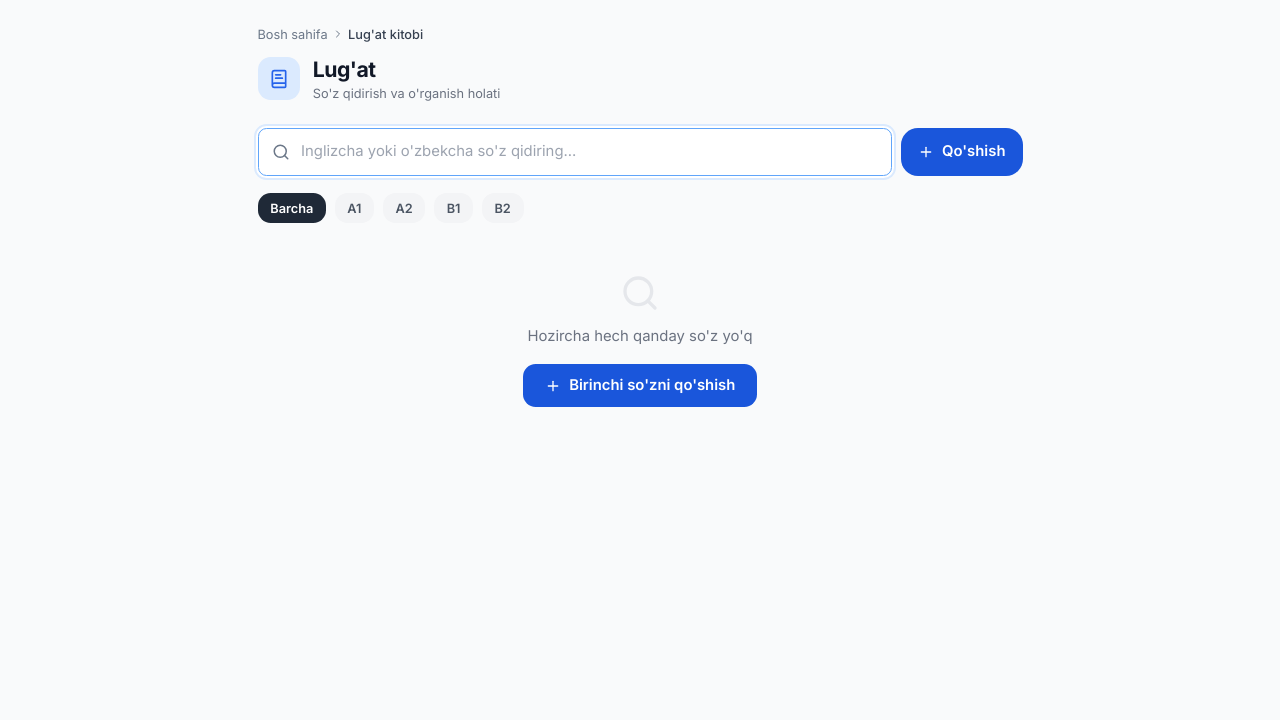
Scenario: Dictionary — page integration tests › shows validation error when submitting empty form
Note: Open modal
What coordinates should you click on to do the following:
click the button "Qo'shish"
I would click on:
 (962, 152)
Its box is 901,128 -> 1022,176.
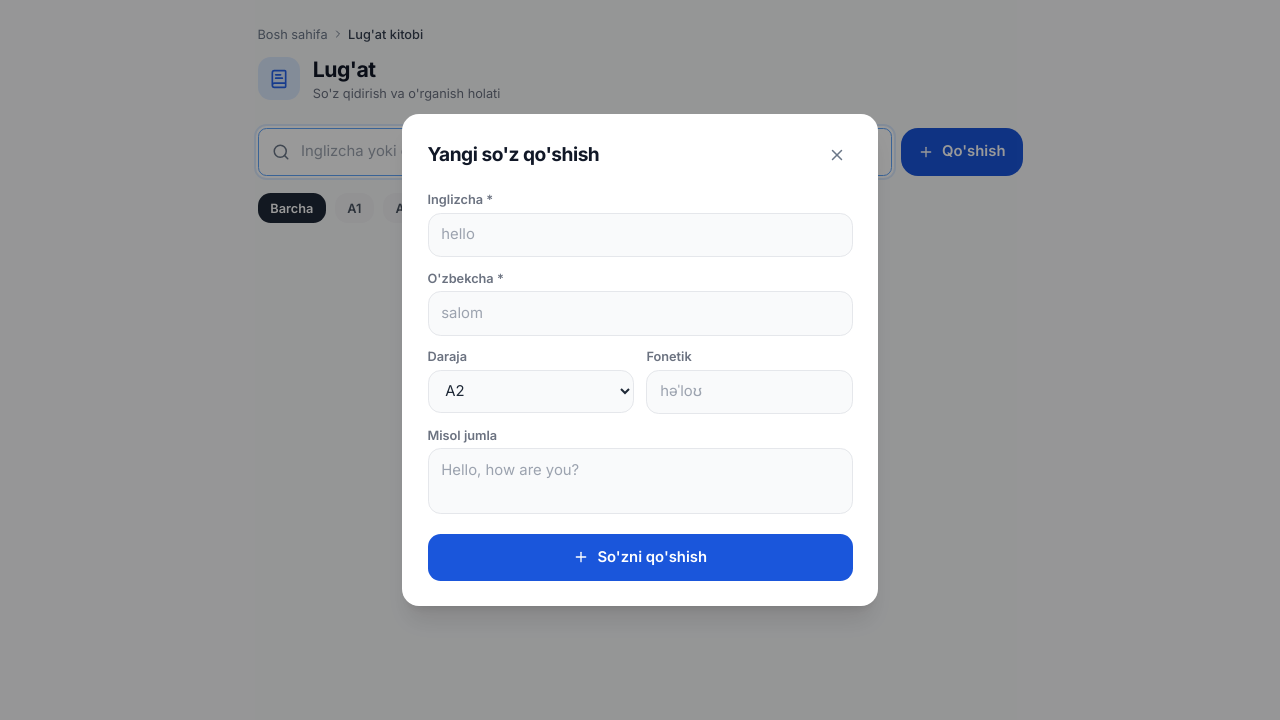
Note: Submit without filling
What coordinates should you click on to do the following:
click the button "So'zni qo'shish"
I would click on:
 (640, 557)
Its box is 428,534 -> 852,581.
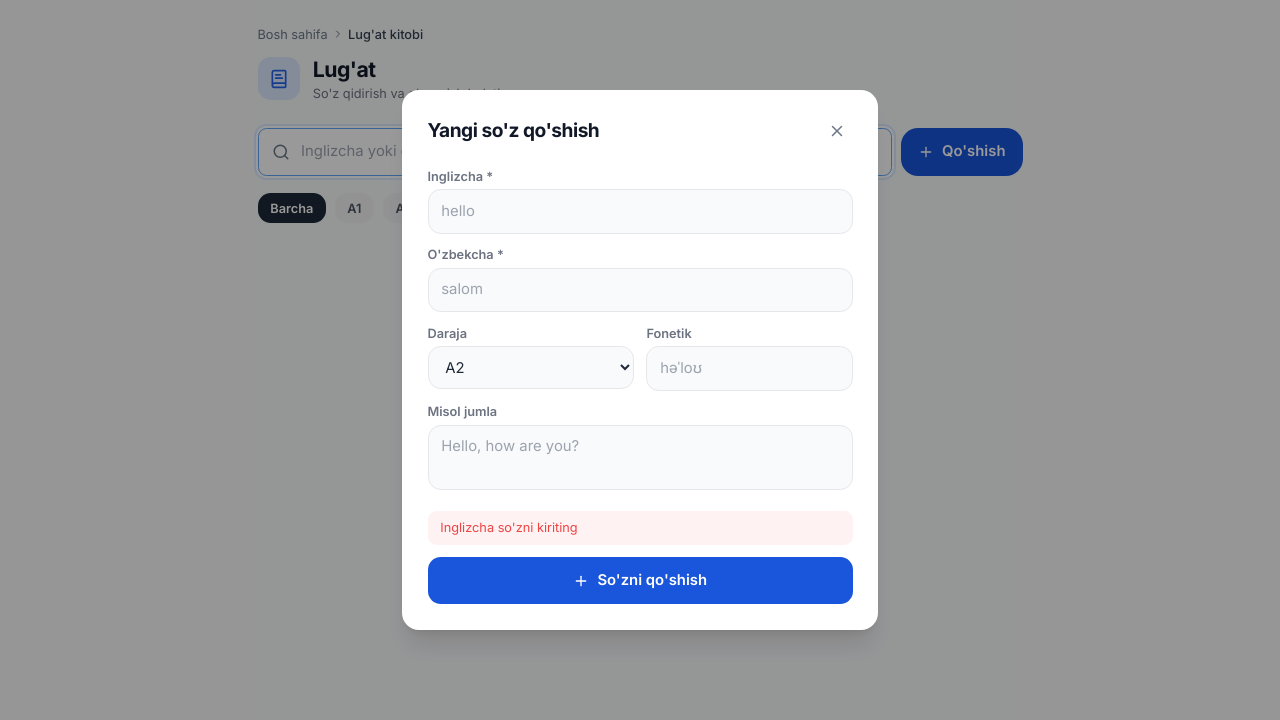
Expected: the text "Inglizcha so'zni kiriting" is shown, 428,511 -> 852,545
